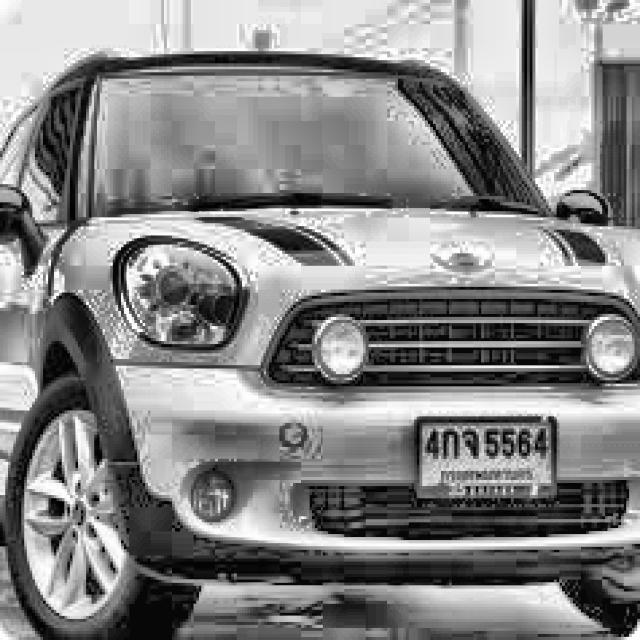license-plate: (415, 412, 559, 501)
